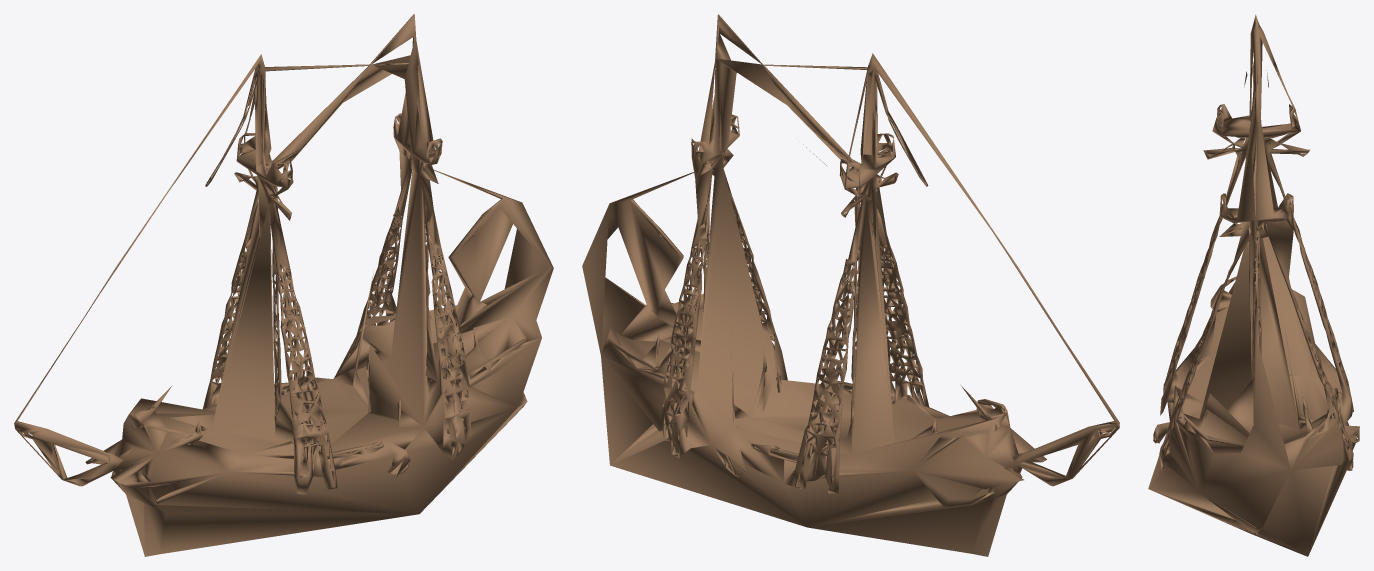
The model's file is brigantine_lod2.glb.
The picture shows the model from 3 angles, left to right: view 1: azimuth 30°, elevation 25°; view 2: azimuth 150°, elevation 25°; view 3: azimuth 270°, elevation 25°; orthographic projection. The views are drawn at different scales.
Parts seen in each view (by area): view 1: BrigantineLOD; view 2: BrigantineLOD; view 3: BrigantineLOD.
Boxes of the visible parts, box(x1,y1,x2,y2) form: BrigantineLOD: box(14, 14, 553, 556); BrigantineLOD: box(582, 14, 1119, 556); BrigantineLOD: box(1148, 14, 1359, 556).
Bounding box in the file's own units: 6.09 × 5.16 × 2.16.
